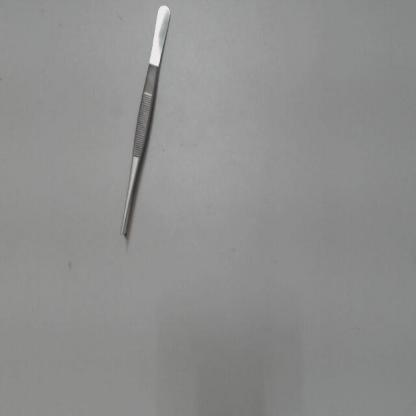Gillies Toothed Dissector: (121, 3, 174, 241)
